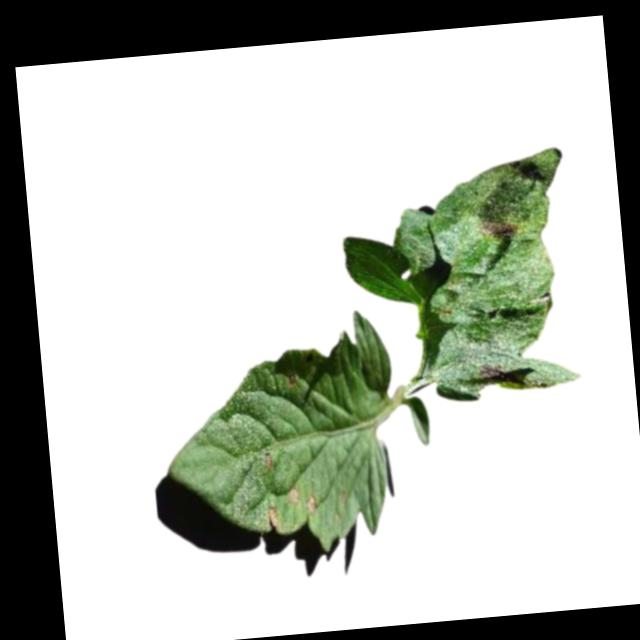Early_blight: (478, 212, 527, 240), (263, 502, 280, 530), (478, 360, 505, 377), (304, 492, 321, 516), (285, 485, 301, 505), (261, 450, 274, 469)
